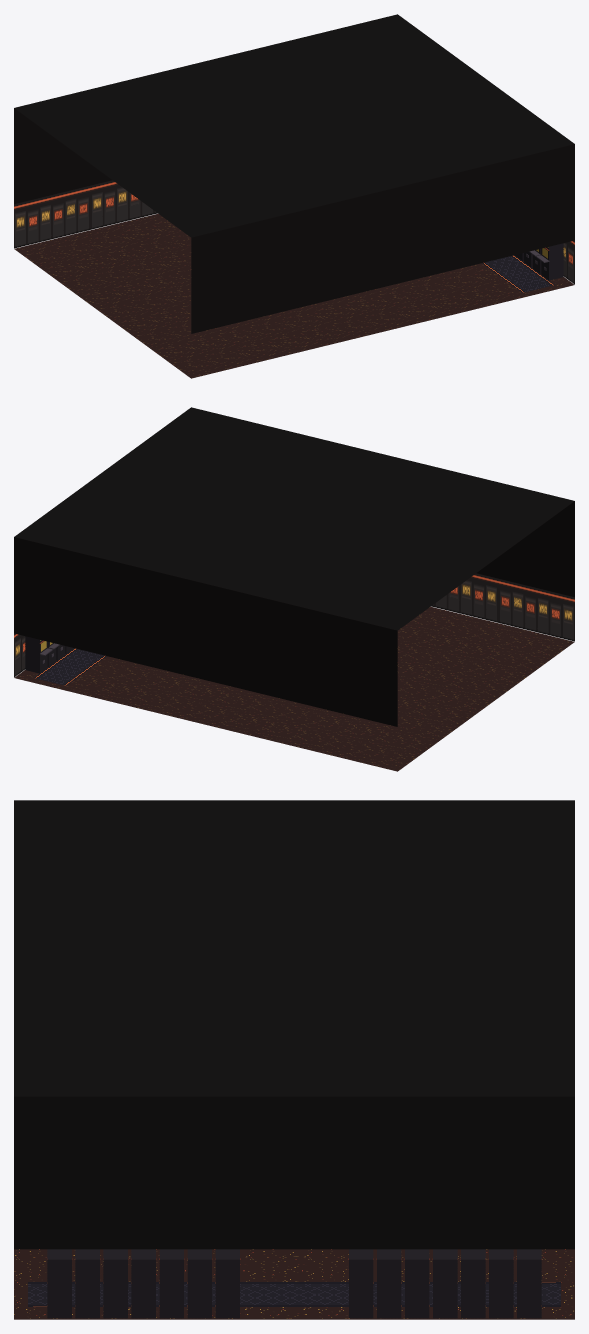
File: cage.glb
The picture shows the model from 3 angles, top to bottom: view 1: azimuth 30°, elevation 25°; view 2: azimuth 150°, elevation 25°; view 3: azimuth 270°, elevation 25°; orthographic projection. The views are drawn at different scales.
Parts seen in each view (by area): view 1: HallCeiling, HallSideUpper1, HallFloor, HallSide0, HallSideUpper0, HallRug, Cabinet13, HallBack; view 2: HallCeiling, HallSideUpper0, HallFloor, HallSide1, HallSideUpper1, HallRug, Cabinet0, HallBack; view 3: HallCeiling, HallBackUpper, HallFloor, HallRug, Cabinet0, Cabinet1, Cabinet2, Cabinet3, Cabinet10, Cabinet11, Cabinet12, Cabinet13 (+6 smaller).
Part boxes in pixels (x1,y1,x2,y2): HallCeiling: (14,14,574,237); HallSideUpper1: (191,144,574,333); HallFloor: (14,213,574,378); HallSide0: (14,180,157,248); HallSideUpper0: (14,108,112,204); HallRug: (482,255,554,292); Cabinet13: (541,243,563,280); HallBack: (563,240,574,284); HallCeiling: (14,407,574,630); HallSideUpper0: (14,537,397,726); HallFloor: (14,606,574,771); HallSide1: (431,573,574,641); HallSideUpper1: (476,501,574,597); HallRug: (34,648,106,685); Cabinet0: (25,636,47,673); HallBack: (14,633,25,677); HallCeiling: (14,800,574,1096); HallBackUpper: (14,1096,574,1249); HallFloor: (14,1249,574,1319); HallRug: (28,1282,560,1306); Cabinet0: (517,1249,541,1318); Cabinet1: (489,1249,513,1318); Cabinet2: (461,1249,485,1318); Cabinet3: (433,1249,457,1318); Cabinet10: (131,1249,155,1318); Cabinet11: (103,1249,127,1318); Cabinet12: (75,1249,99,1318); Cabinet13: (47,1249,71,1318).
Bounding box in the file's own units: 20 × 7.02 × 16.
23 materials, 10 textured.
